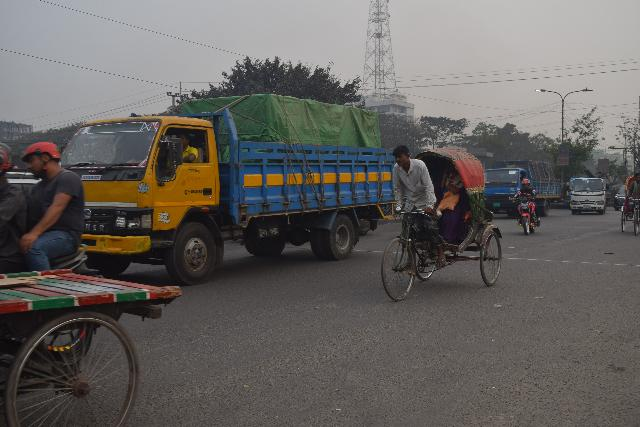truck: (47, 89, 408, 282), (477, 158, 568, 225), (573, 172, 613, 217)
